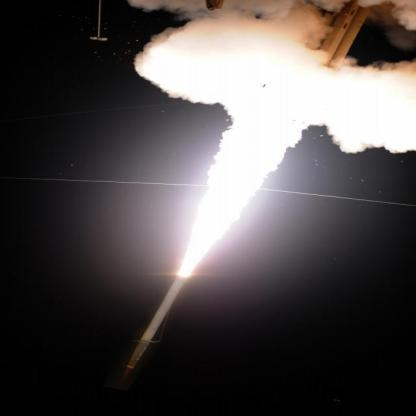MIL_TBM: (106, 250, 208, 394)
